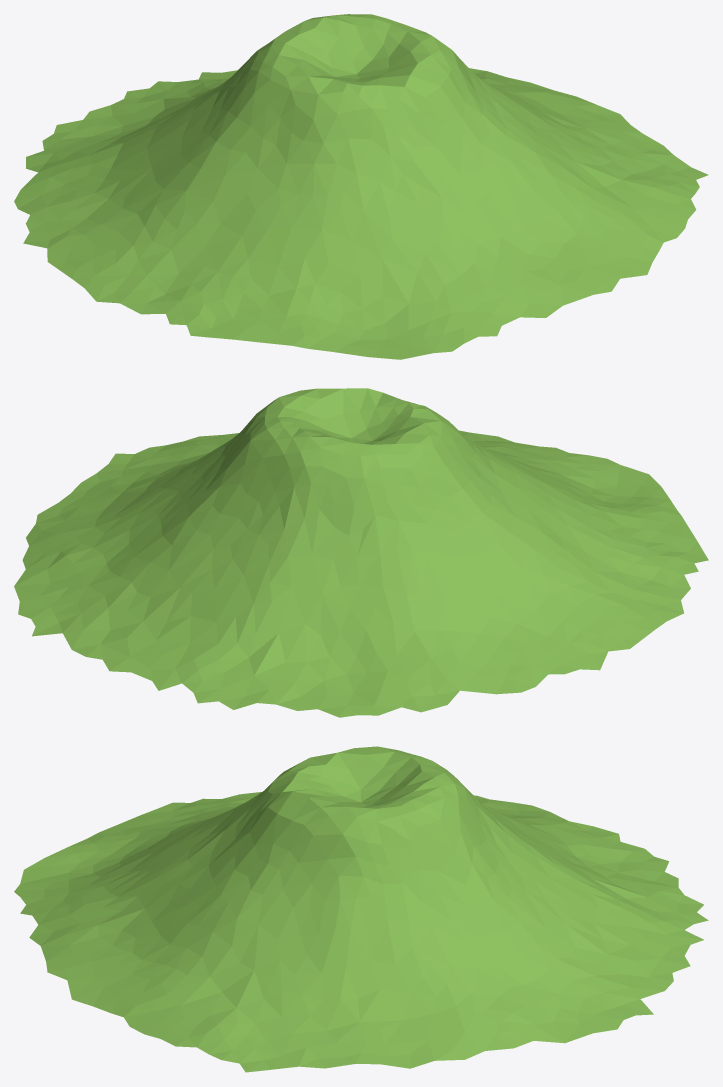
File: MT_Mountain_L_a_11.fbx
3 views of the same model, one above another, from view 1: azimuth 30°, elevation 25°; view 2: azimuth 150°, elevation 25°; view 3: azimuth 270°, elevation 25° (orthographic).
Visible parts, largest first — view 1: MT_Mountain_L_a_11; view 2: MT_Mountain_L_a_11; view 3: MT_Mountain_L_a_11.
Part boxes in pixels (x1,y1,x2,y2): MT_Mountain_L_a_11: (14, 14, 708, 359); MT_Mountain_L_a_11: (14, 388, 708, 717); MT_Mountain_L_a_11: (14, 746, 708, 1072).
Size of the model in its own units: 8633 by 2223 by 8906.
